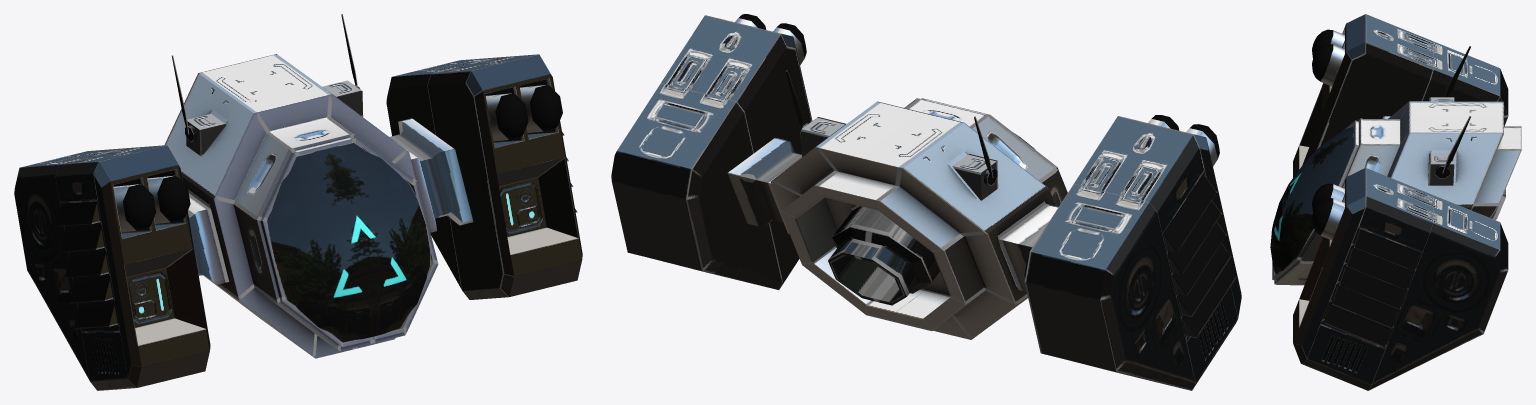
Rendered from drone_6.FBX.
The picture shows the model from 3 angles, left to right: view 1: azimuth 30°, elevation 25°; view 2: azimuth 150°, elevation 25°; view 3: azimuth 270°, elevation 25°; orthographic projection. The views are drawn at different scales.
Visible parts, largest first — view 1: Cylinder001; view 2: Cylinder001; view 3: Cylinder001.
Part boxes in pixels (x1,y1,x2,y2): Cylinder001: (14,14,582,390); Cylinder001: (611,14,1241,390); Cylinder001: (1270,14,1521,390).
Size of the model in its own units: 745 by 393 by 408.
